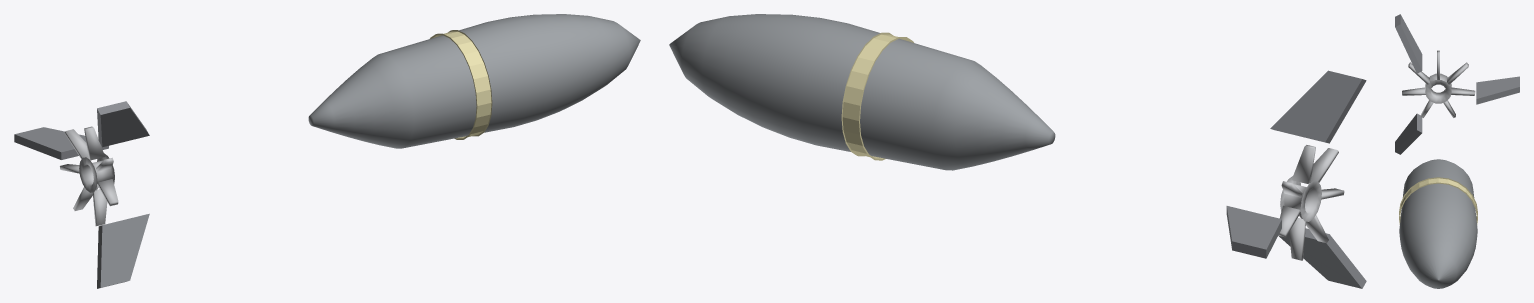
The model's file is US_TORP_Mk27_LOD1.fbx.
The picture shows the model from 3 angles, left to right: view 1: azimuth 30°, elevation 25°; view 2: azimuth 150°, elevation 25°; view 3: azimuth 270°, elevation 25°; orthographic projection. The views are drawn at different scales.
Parts seen in each view (by area): view 1: WPN_US_TORP_Mk27_LOD1_Body, WPN_US_TORP_Mk27_LOD1_Fins, WPN_US_TORP_Mk27_LOD1_Propulsor, WPN_US_TORP_Mk27_LOD1_Marking; view 2: WPN_US_TORP_Mk27_LOD1_Body, WPN_US_TORP_Mk27_LOD1_Fins, WPN_US_TORP_Mk27_LOD1_Propulsor, WPN_US_TORP_Mk27_LOD1_Marking; view 3: WPN_US_TORP_Mk27_LOD1_Body, WPN_US_TORP_Mk27_LOD1_Fins, WPN_US_TORP_Mk27_LOD1_Propulsor, WPN_US_TORP_Mk27_LOD1_Marking.
Part boxes in pixels (x1=…): WPN_US_TORP_Mk27_LOD1_Body: x1=308, y1=14, x2=640, y2=148; WPN_US_TORP_Mk27_LOD1_Fins: x1=14, y1=101, x2=149, y2=288; WPN_US_TORP_Mk27_LOD1_Propulsor: x1=60, y1=126, x2=118, y2=226; WPN_US_TORP_Mk27_LOD1_Marking: x1=430, y1=30, x2=492, y2=139; WPN_US_TORP_Mk27_LOD1_Body: x1=669, y1=14, x2=1055, y2=170; WPN_US_TORP_Mk27_LOD1_Fins: x1=1226, y1=70, x2=1366, y2=288; WPN_US_TORP_Mk27_LOD1_Propulsor: x1=1278, y1=145, x2=1344, y2=260; WPN_US_TORP_Mk27_LOD1_Marking: x1=841, y1=32, x2=913, y2=160; WPN_US_TORP_Mk27_LOD1_Body: x1=1399, y1=159, x2=1477, y2=288; WPN_US_TORP_Mk27_LOD1_Fins: x1=1395, y1=14, x2=1519, y2=154; WPN_US_TORP_Mk27_LOD1_Propulsor: x1=1402, y1=50, x2=1475, y2=117; WPN_US_TORP_Mk27_LOD1_Marking: x1=1399, y1=177, x2=1477, y2=224.
Bounding box in the file's own units: 3.23 × 0.8477 × 0.9789.
